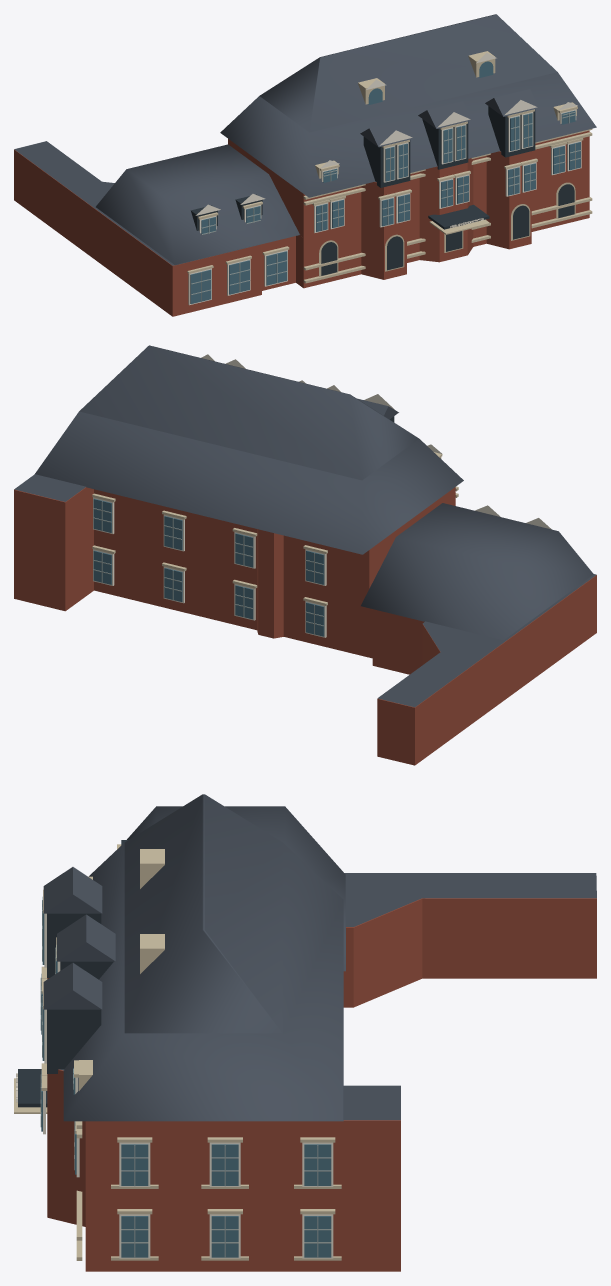
Rendered from haarlemmermeerstation.glb.
The picture shows the model from 3 angles, top to bottom: view 1: azimuth 30°, elevation 25°; view 2: azimuth 150°, elevation 25°; view 3: azimuth 270°, elevation 25°; orthographic projection. The views are drawn at different scales.
Parts seen in each view (by area): view 1: haarlemmermeerstation; view 2: haarlemmermeerstation; view 3: haarlemmermeerstation.
Part boxes in pixels (x1,y1,x2,y2): haarlemmermeerstation: (14,14,596,316); haarlemmermeerstation: (14,345,596,765); haarlemmermeerstation: (14,794,596,1271).
Size of the model in its own units: 33.63 by 14.6 by 25.81.
